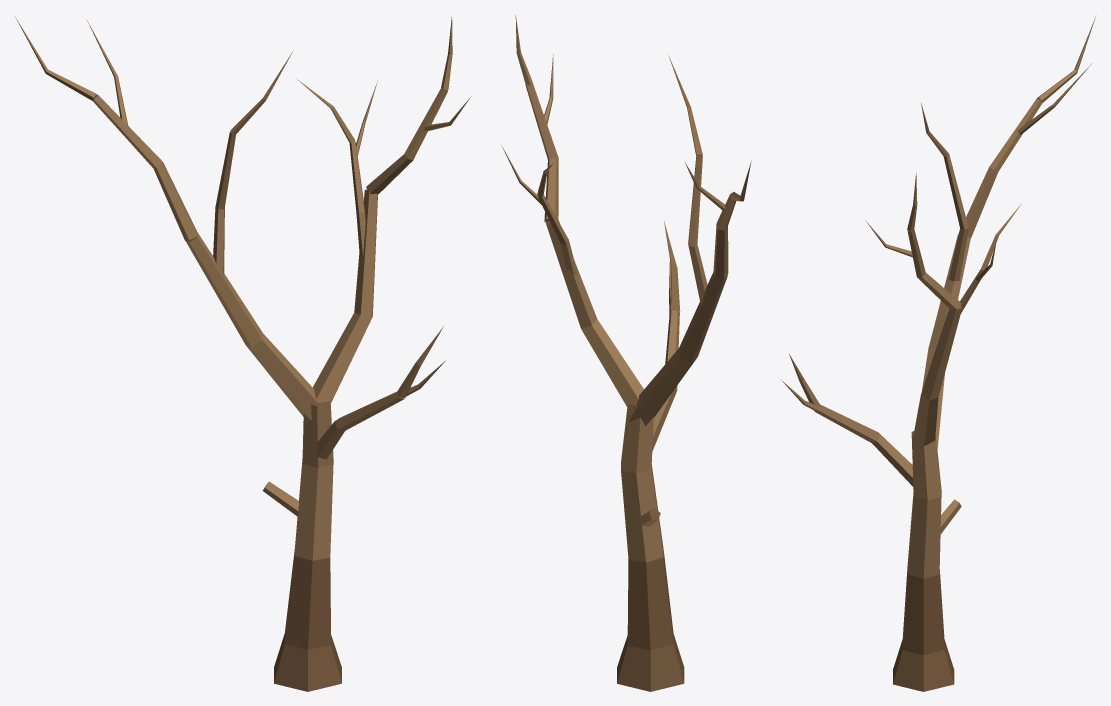
Rendered from tree_dead.glb.
3 views of the same model, side by side, from view 1: azimuth 30°, elevation 25°; view 2: azimuth 150°, elevation 25°; view 3: azimuth 270°, elevation 25° (orthographic). The views are drawn at different scales.
Parts seen in each view (by area): view 1: tree_dead; view 2: tree_dead; view 3: tree_dead.
Boxes of the visible parts, x1=… form: tree_dead: x1=15, y1=17, x2=471, y2=691; tree_dead: x1=501, y1=15, x2=751, y2=691; tree_dead: x1=780, y1=16, x2=1095, y2=691.
Bounding box in the file's own units: 4.38 × 7.91 × 3.94.
